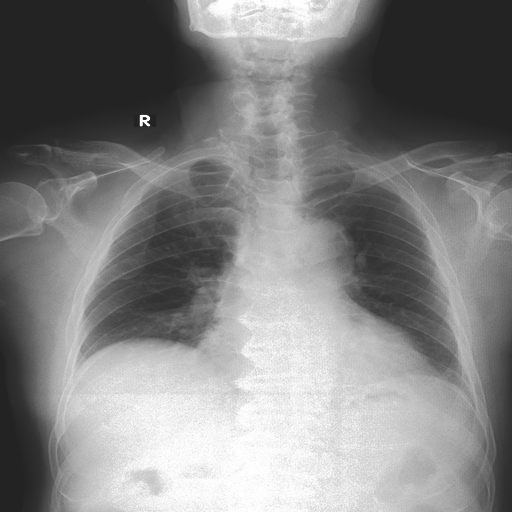Calcification: (343, 160, 402, 193)
Consolidation: (282, 214, 355, 267)
Nodule/Mass: (190, 317, 434, 391)
